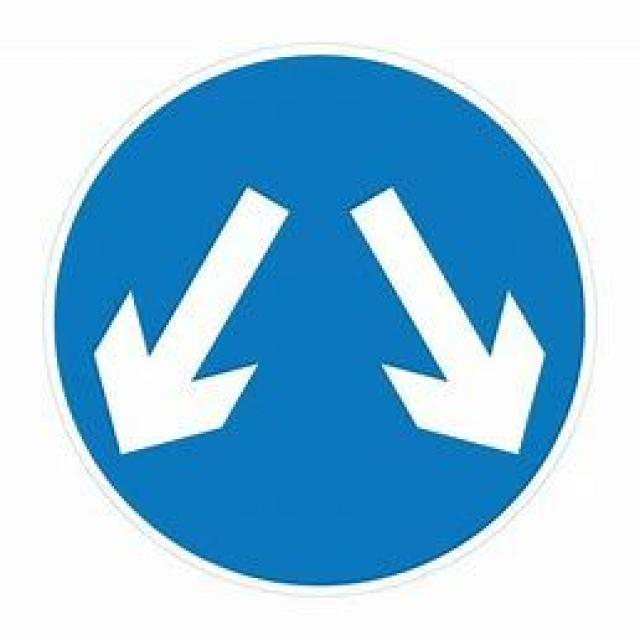PASS_EITHER_SIDE: (55, 52, 583, 583)
